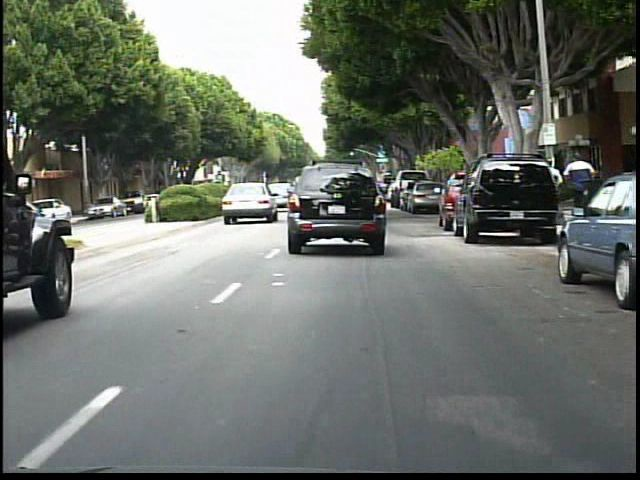person: (562, 146, 599, 225), (536, 155, 563, 223)
